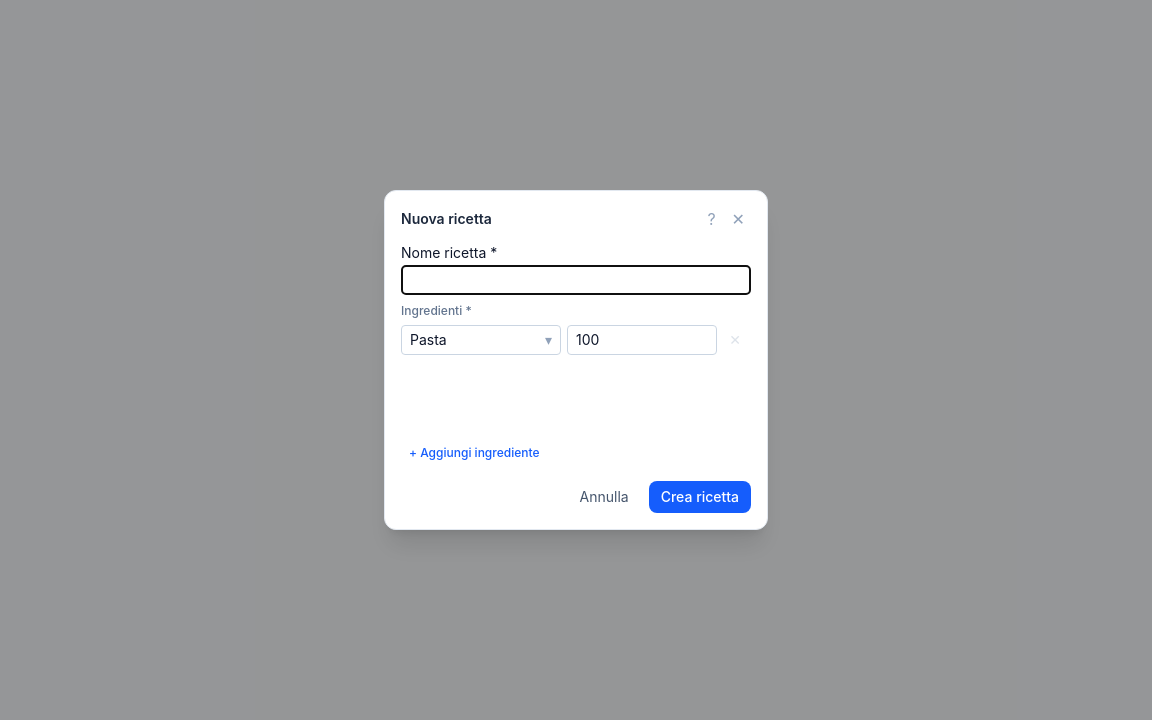
Test: RicettaFormModal - nuova ricetta › RicettaFormModal_nomeVuoto_mostraErroreSenzaSalvare
Click the button "Crea ricetta".
click(700, 497)  # box [649, 481, 751, 513]
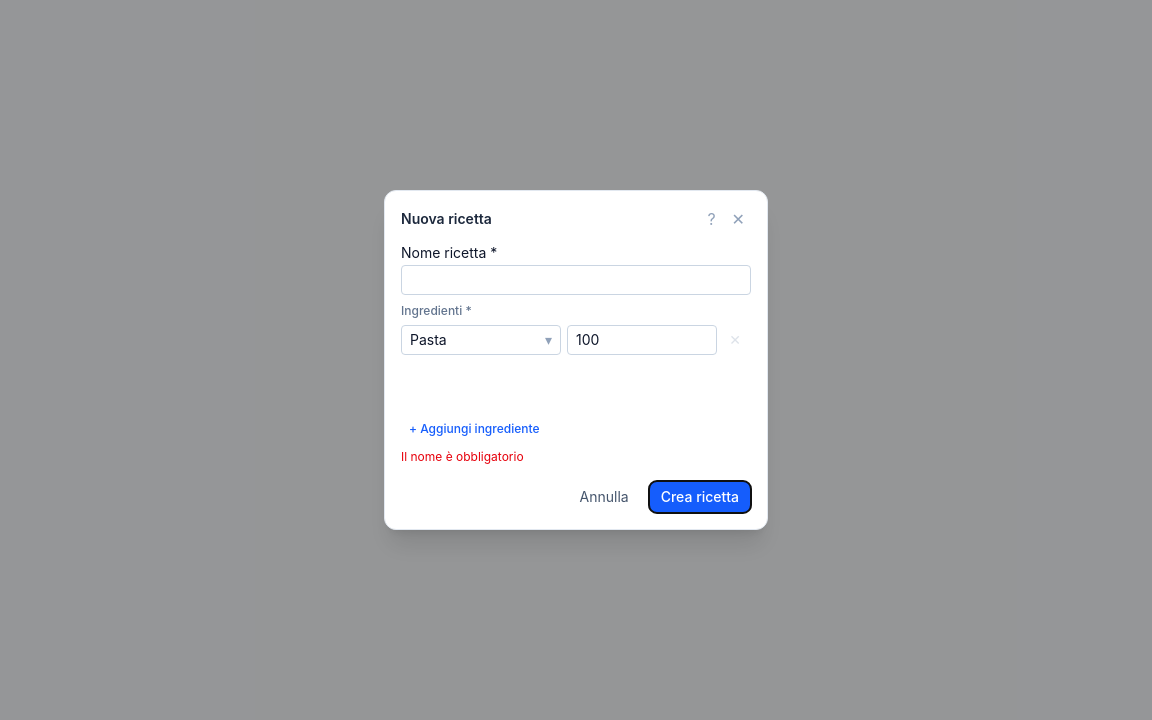
Expected: the text "Il nome è obbligatorio" is shown, [401, 449, 524, 464]
